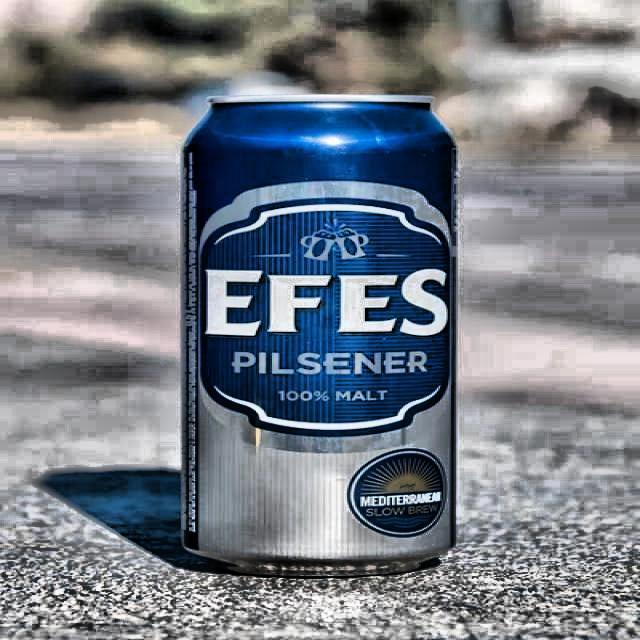metal: (179, 94, 458, 581)
